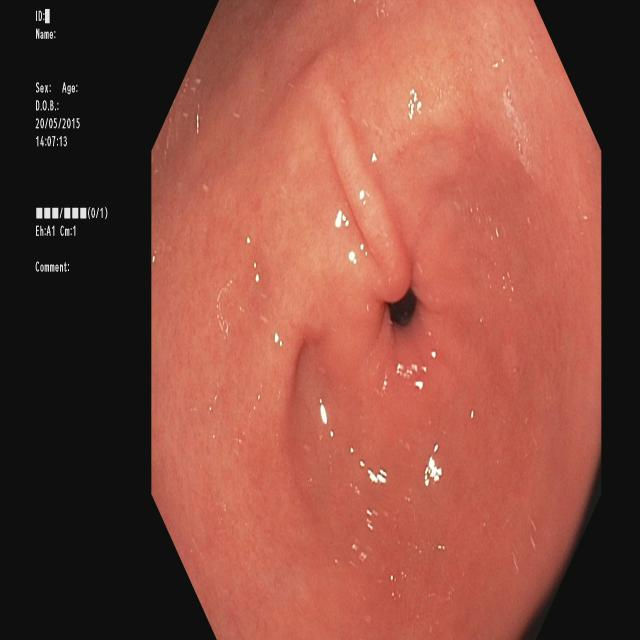normal-pylorus: (299, 94, 532, 473)
